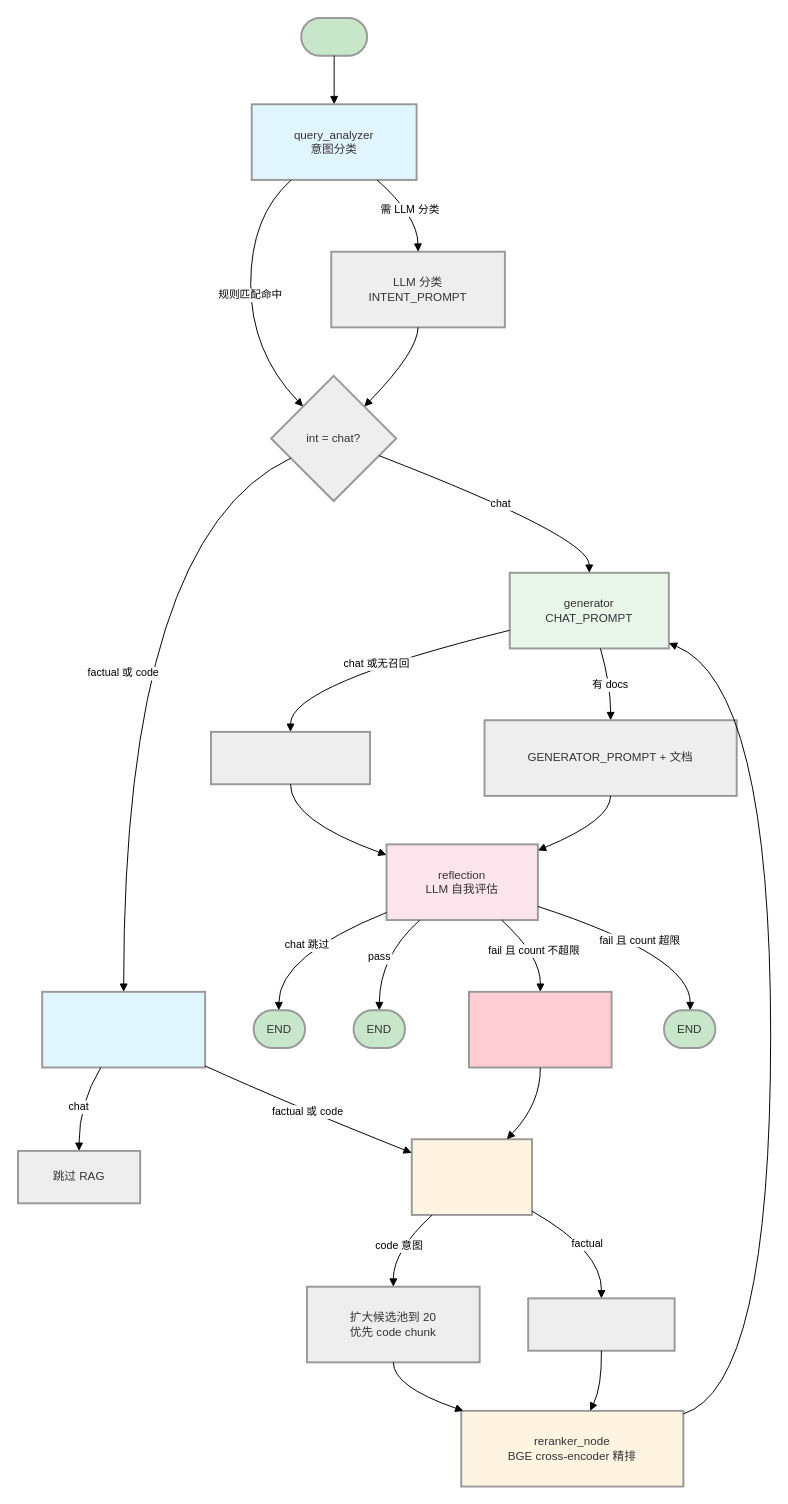
Image size: 788x1504. Some labels were removed from this diagram. Each missing label, with the box of its shape:
CHAT_PROMPT: (210, 730, 371, 785)
query_rewriter 查询改写: (41, 990, 206, 1068)
retriever 混合检索: (410, 1138, 533, 1215)
START: (300, 16, 368, 56)
清空 answer k += 2: (468, 990, 612, 1068)
直接 top-k=3: (527, 1297, 675, 1351)
